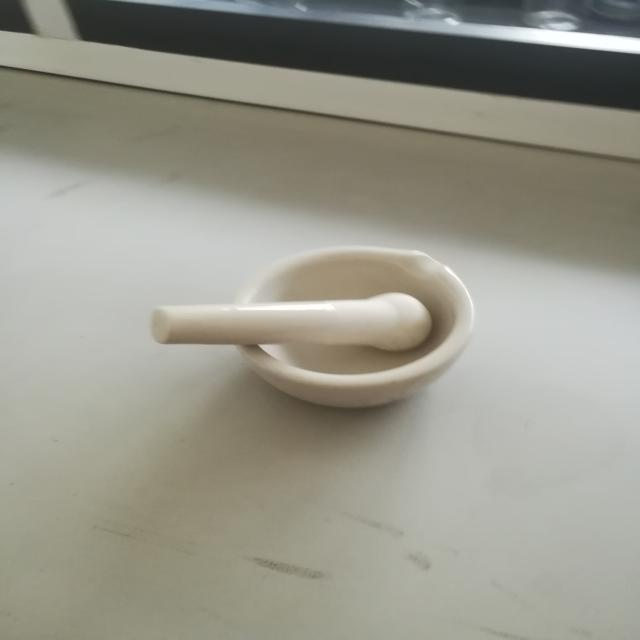Porcelain_Mortar Pestle: (110, 194, 531, 461)
